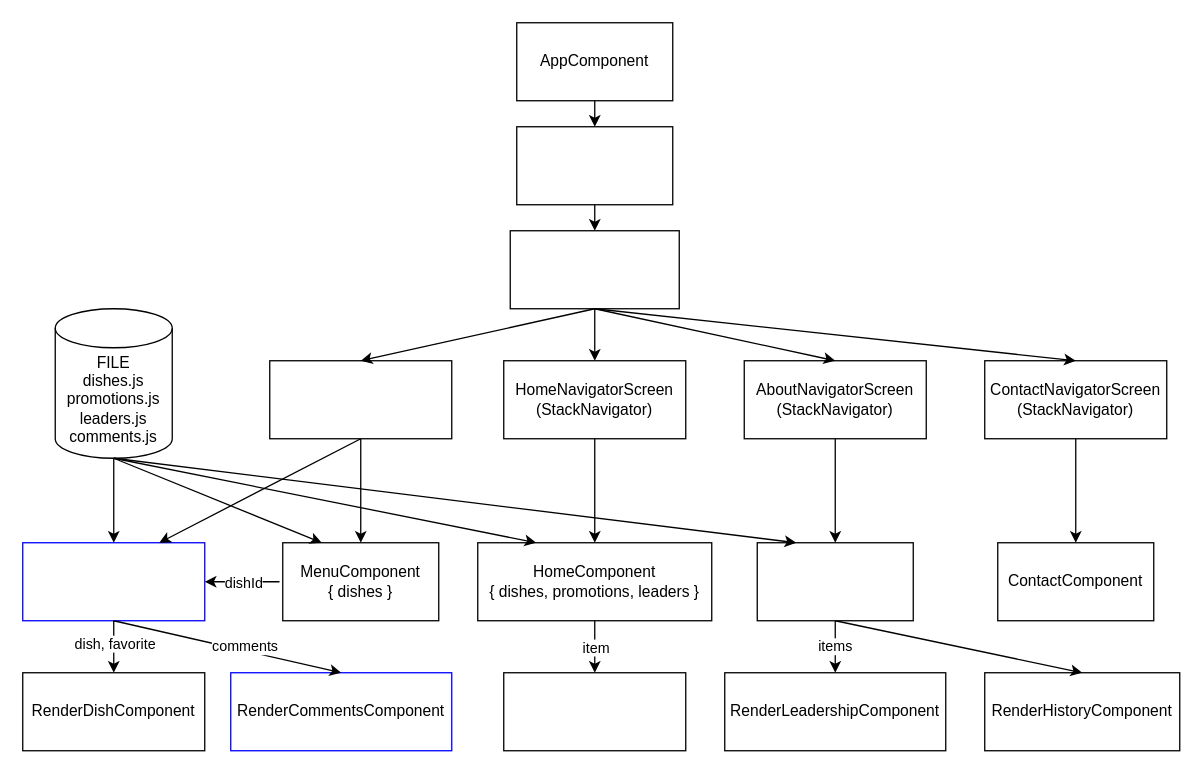
Image size: 1203x774. Some labels were removed from this diagram. Here are the shapes that lost their labels. From the top down, the centre of each, then its label:
At point (594, 165): "MainComponent".
At point (594, 269): "MainNavigatorScreen (DrawerNavigator)".
At point (360, 399): "MenuNavigatorScreen (StackNavigator)".
At point (113, 581): "DishdetailComponent { dishes, comments, favorites }".
At point (834, 581): "AboutComponent { leaders }".
At point (594, 711): "RenderItemComponent".
